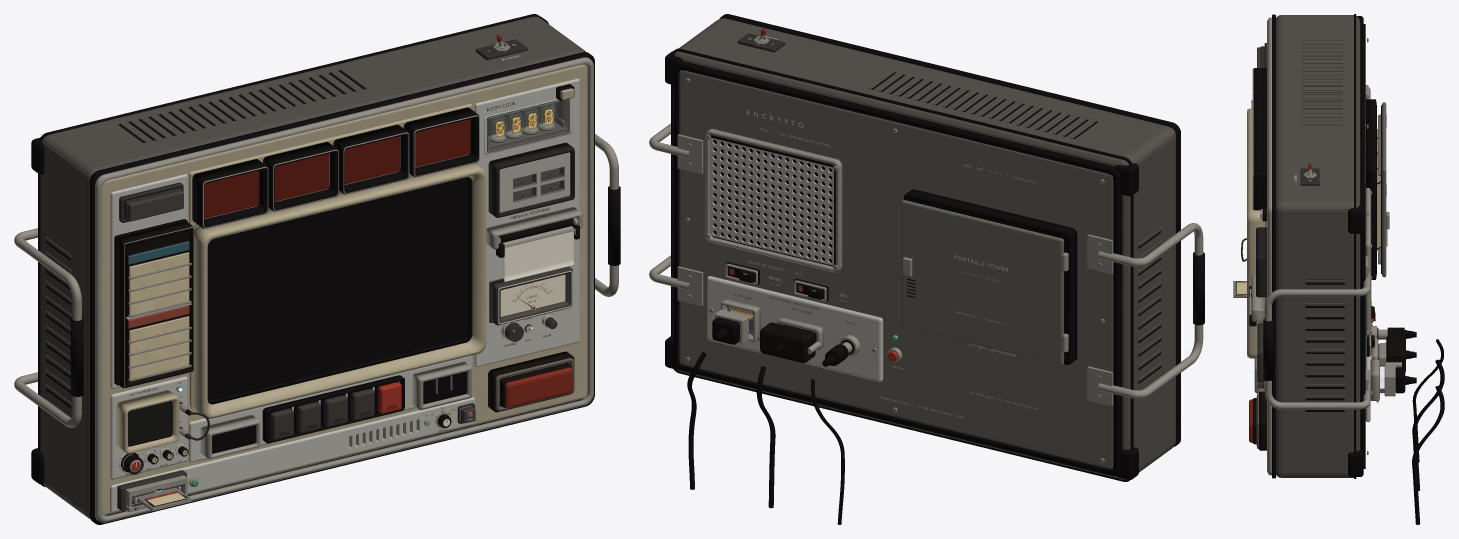
Rendered from decrypto-console.glb.
The picture shows the model from 3 angles, left to right: view 1: azimuth 30°, elevation 25°; view 2: azimuth 150°, elevation 25°; view 3: azimuth 270°, elevation 25°; orthographic projection. The views are drawn at different scales.
Visible parts, largest first — view 1: Instrument_CRT backing, Chassis, Front enamel, Screen outer frame, Instrument_rolled perimeter casting, Archive column, Power rail, Instrument_front perimeter seal, Handle L, Front_roster cast carrier, Screen gasket, Receiver column (+32 smaller); view 2: Instrument_rear service cover, Chassis, Instrument_battery door, Instrument_rear panel gasket, Instrument_perforated speaker grille, Instrument_connector panel, Handle L, Instrument_rear cover seam, Instrument_front perimeter seal, Instrument_speaker cloth, Instrument_battery well, Instrument_speaker frame (+5 smaller); view 3: Chassis, Handle R, Instrument_rear panel gasket, Screen outer frame, Instrument_rolled perimeter casting, Instrument_front perimeter seal, Instrument_battery well, Instrument_rear cover seam, Instrument_battery door, Instrument_speaker frame, Optical bezel 3, Score bezel (+18 smaller).
Part boxes in pixels (left/top/right/bottom): Instrument_CRT backing: left=208, top=178, right=467, bottom=399; Chassis: left=40, top=16, right=585, bottom=518; Front enamel: left=101, top=65, right=587, bottom=515; Screen outer frame: left=189, top=163, right=486, bottom=418; Instrument_rolled perimeter casting: left=95, top=57, right=593, bottom=522; Archive column: left=474, top=78, right=579, bottom=367; Power rail: left=110, top=397, right=474, bottom=512; Instrument_front perimeter seal: left=89, top=52, right=594, bottom=524; Handle L: left=14, top=228, right=83, bottom=427; Front_roster cast carrier: left=116, top=221, right=193, bottom=388; Screen gasket: left=207, top=177, right=472, bottom=404; Receiver column: left=110, top=174, right=187, bottom=388; Instrument_rear service cover: left=679, top=70, right=1113, bottom=469; Chassis: left=673, top=18, right=1175, bottom=479; Instrument_battery door: left=901, top=200, right=1063, bottom=365; Instrument_rear panel gasket: left=673, top=61, right=1122, bottom=475; Instrument_perforated speaker grille: left=711, top=137, right=833, bottom=265; Instrument_connector panel: left=707, top=276, right=883, bottom=381; Handle L: left=1087, top=223, right=1204, bottom=406; Instrument_rear cover seam: left=671, top=48, right=1133, bottom=481; Instrument_front perimeter seal: left=719, top=14, right=1180, bottom=446; Instrument_speaker cloth: left=711, top=135, right=835, bottom=266; Instrument_battery well: left=903, top=189, right=1077, bottom=364; Instrument_speaker frame: left=705, top=128, right=842, bottom=272; Chassis: left=1276, top=15, right=1360, bottom=477; Handle R: left=1263, top=256, right=1370, bottom=409; Instrument_rear panel gasket: left=1360, top=24, right=1365, bottom=468; Screen outer frame: left=1247, top=108, right=1265, bottom=358; Instrument_rolled perimeter casting: left=1267, top=17, right=1271, bottom=475; Instrument_front perimeter seal: left=1272, top=14, right=1275, bottom=478; Instrument_battery well: left=1366, top=99, right=1376, bottom=279; Instrument_rear cover seam: left=1354, top=14, right=1356, bottom=478; Instrument_battery door: left=1382, top=102, right=1386, bottom=277; Instrument_speaker frame: left=1365, top=188, right=1371, bottom=336; Optical bezel 3: left=1253, top=149, right=1266, bottom=210; Score bezel: left=1256, top=227, right=1266, bottom=297.
Bounding box in the file's own units: 17.52 × 13.87 × 7.45.
83 materials, 8 textured.
